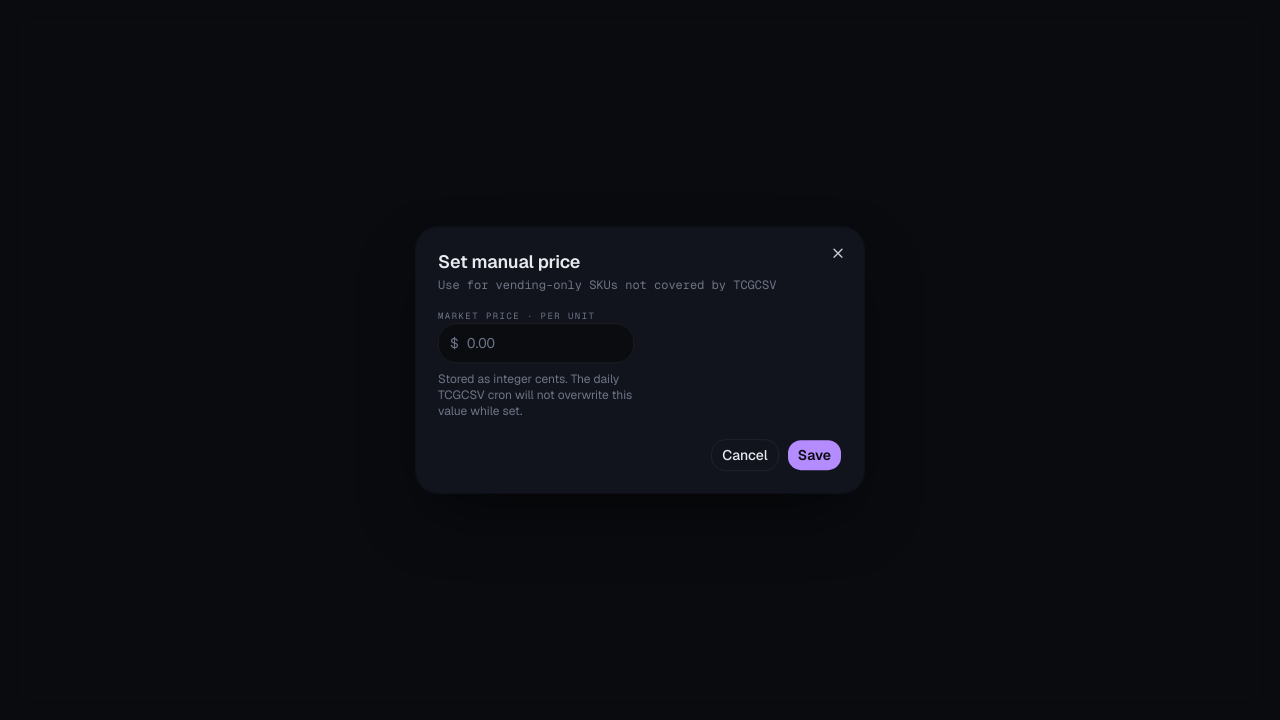
Test: <SetManualPriceDialog> › shows validation error for invalid input
Step 1. Type "not a number" into the field labelled "Market price · per unit" → (536, 343), box [438, 323, 634, 363]
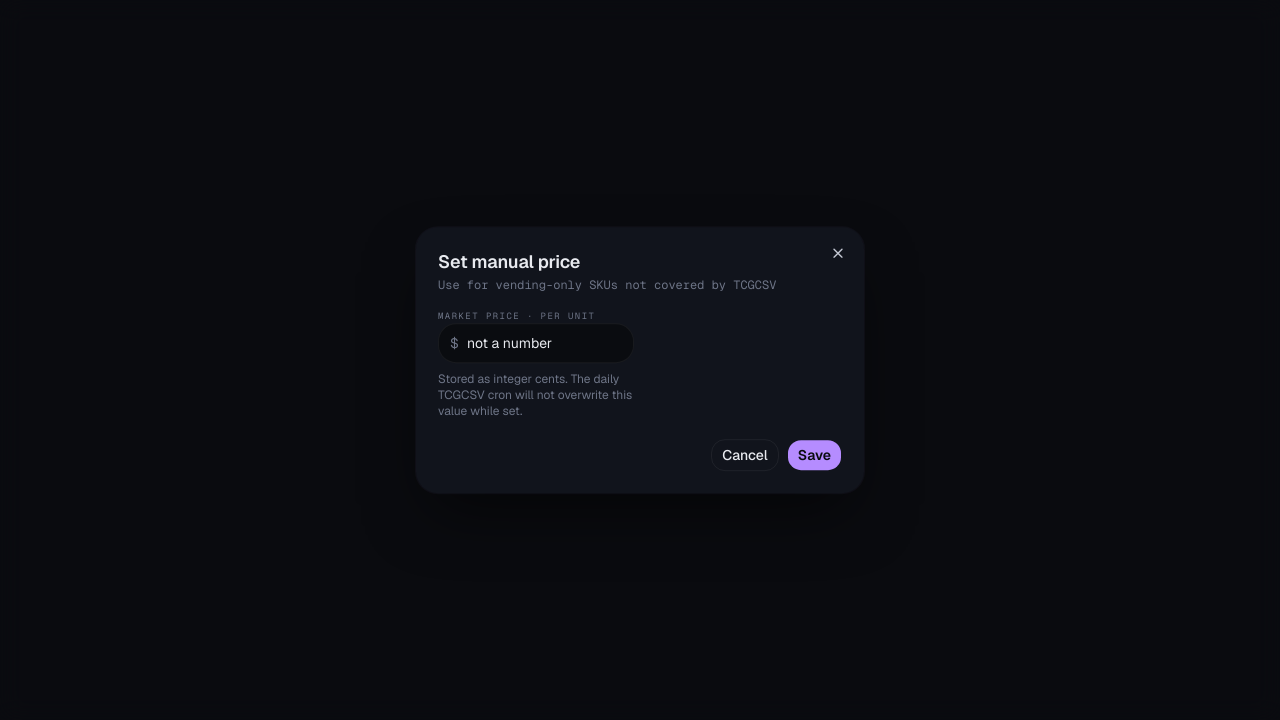
Step 2. Click the button "Save" → (814, 455), box [787, 439, 842, 471]
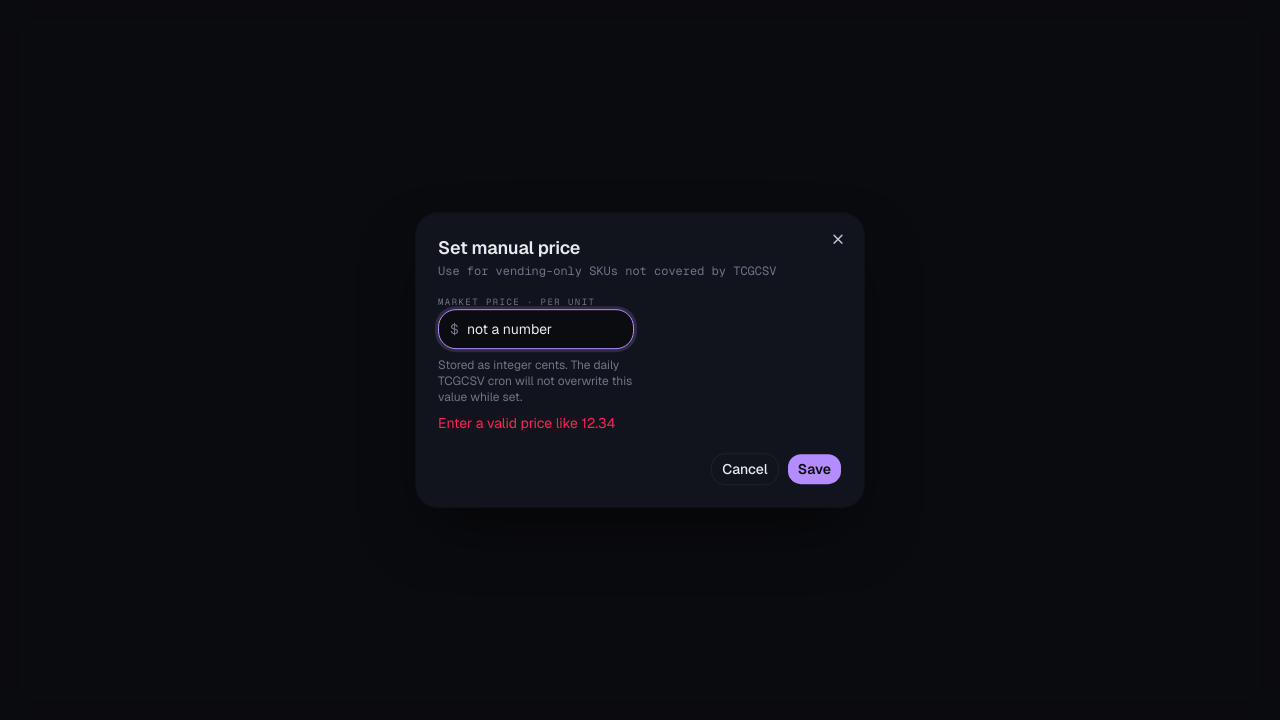
Check: the text "Enter a valid price like 12.34" is shown, box [438, 413, 634, 433]
